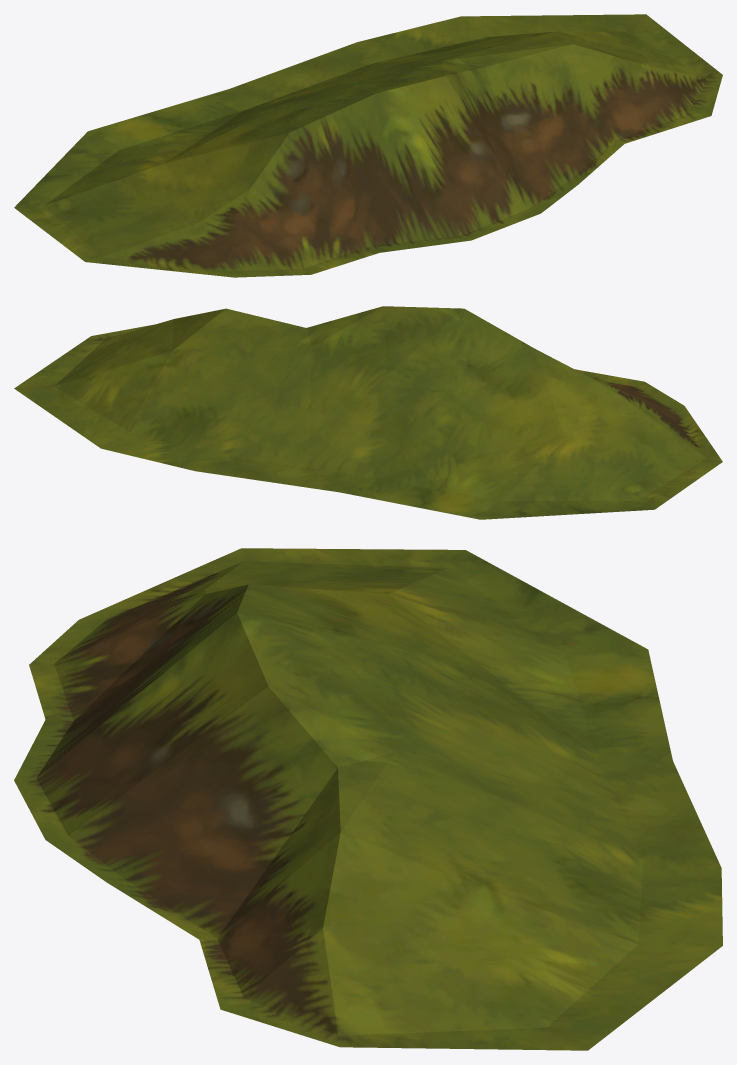
Rendered from miniberm_03.fbx.
The picture shows the model from 3 angles, top to bottom: view 1: azimuth 30°, elevation 25°; view 2: azimuth 150°, elevation 25°; view 3: azimuth 270°, elevation 25°; orthographic projection. The views are drawn at different scales.
Parts seen in each view (by area): view 1: obj0.043; view 2: obj0.043; view 3: obj0.043.
Part boxes in pixels (x1,y1,x2,y2): obj0.043: [14, 14, 722, 277]; obj0.043: [14, 306, 722, 519]; obj0.043: [14, 548, 722, 1050].
Size of the model in its own units: 16.61 by 2.33 by 9.91.
